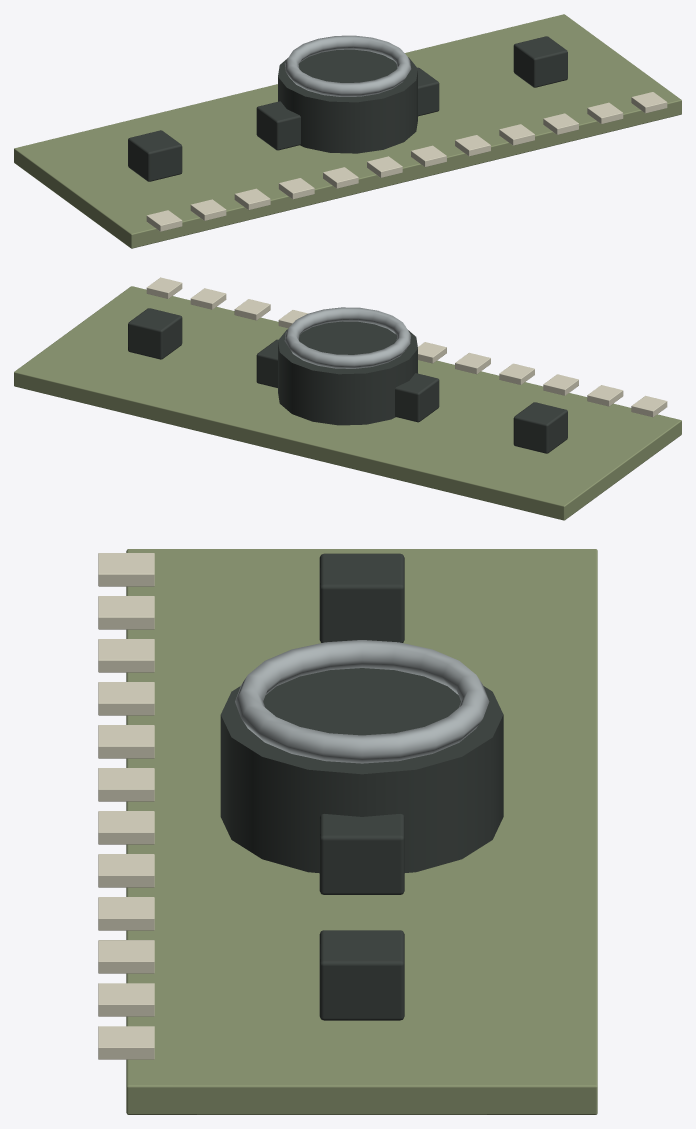
The model's file is gpu.glb.
The picture shows the model from 3 angles, top to bottom: view 1: azimuth 30°, elevation 25°; view 2: azimuth 150°, elevation 25°; view 3: azimuth 270°, elevation 25°; orthographic projection. The views are drawn at different scales.
Visible parts, largest first — view 1: graphics-board; view 2: graphics-board; view 3: graphics-board.
Part boxes in pixels (<box>): graphics-board: <box>14,14,681,248</box>; graphics-board: <box>14,277,681,520</box>; graphics-board: <box>98,549,597,1114</box>.
Size of the model in its own units: 0.27 by 0.0366 by 0.106.
